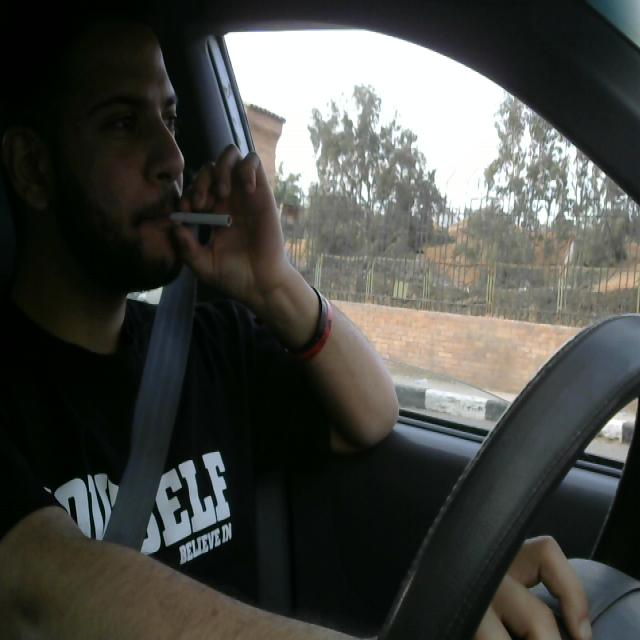smoking: (151, 198, 249, 243)
